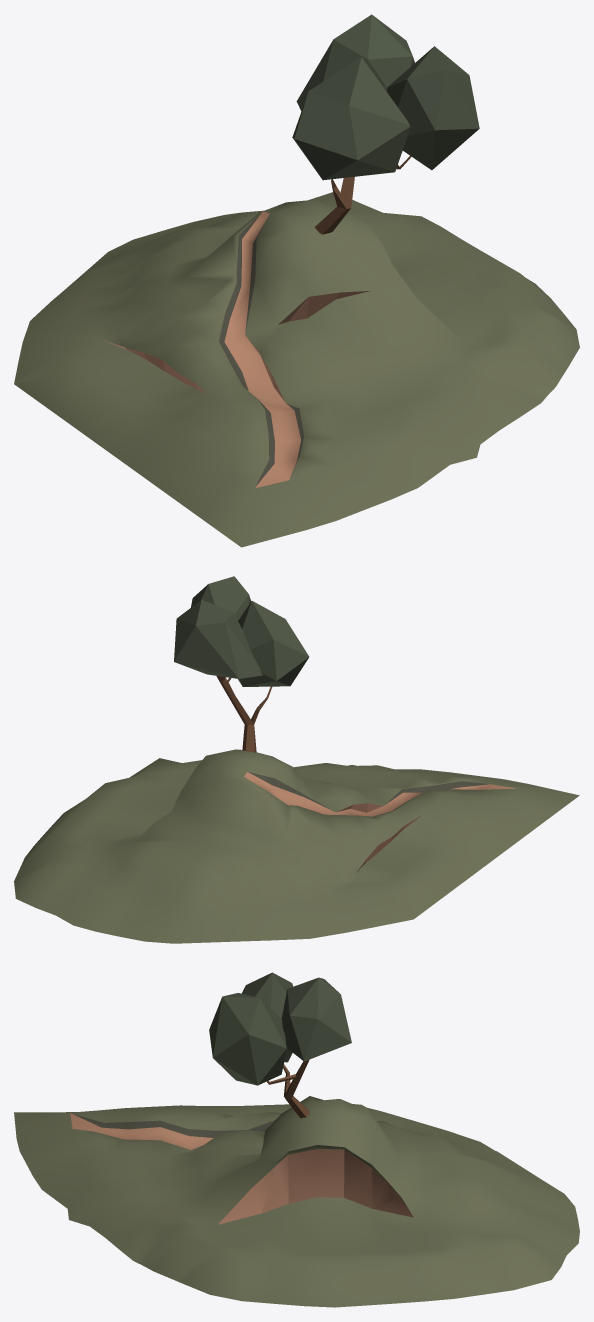
The model's file is hill-tree.glb.
3 views of the same model, one above another, from view 1: azimuth 30°, elevation 25°; view 2: azimuth 150°, elevation 25°; view 3: azimuth 270°, elevation 25° (orthographic). The views are drawn at different scales.
Parts seen in each view (by area): view 1: Hill-tree_Texture-base_0; view 2: Hill-tree_Texture-base_0; view 3: Hill-tree_Texture-base_0.
Part boxes in pixels (box(x1,y1,x2,y2)): Hill-tree_Texture-base_0: box(14, 14, 579, 547); Hill-tree_Texture-base_0: box(14, 576, 579, 943); Hill-tree_Texture-base_0: box(14, 972, 579, 1307).
Bounding box in the file's own units: 13.56 × 8.41 × 16.48.
1 material, 1 textured.
